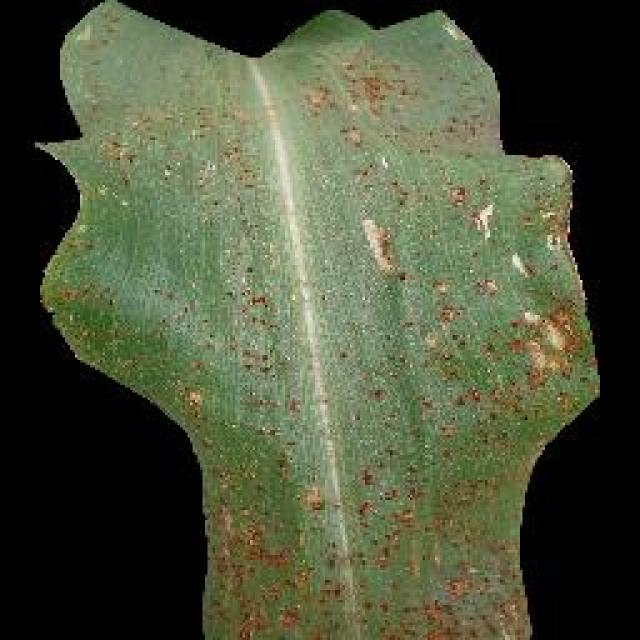Corn___Common_rust: (20, 0, 615, 640)
